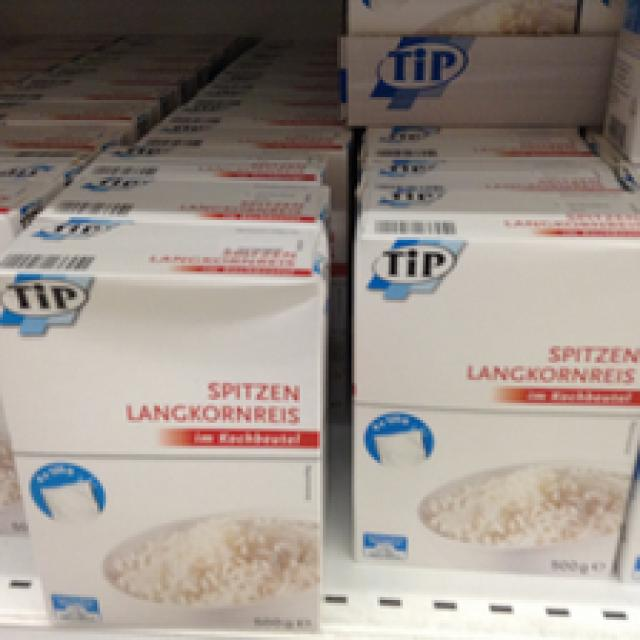groceries: (0, 220, 329, 629), (346, 194, 637, 577)
